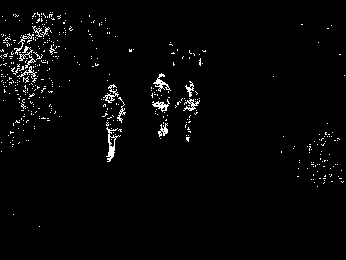person: (99, 84, 127, 163), (175, 78, 201, 144), (148, 72, 173, 140)
